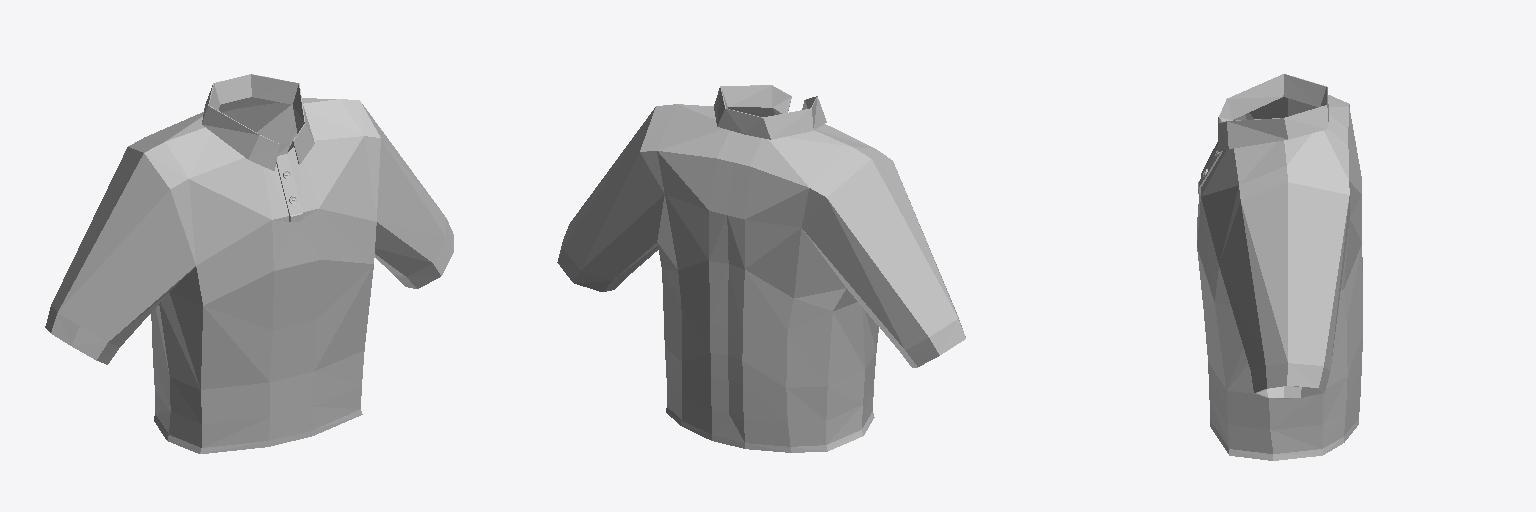
File: originT.obj
3 views of the same model, side by side, from view 1: azimuth 30°, elevation 25°; view 2: azimuth 150°, elevation 25°; view 3: azimuth 270°, elevation 25° (orthographic).
Visible parts, largest first — view 1: Mesh1 Group_14_1 Model; view 2: Mesh1 Group_14_1 Model; view 3: Mesh1 Group_14_1 Model.
Part boxes in pixels (x1,y1,x2,y2): Mesh1 Group_14_1 Model: (45,74,453,453); Mesh1 Group_14_1 Model: (557,85,965,452); Mesh1 Group_14_1 Model: (1197,74,1362,460).
Bounding box in the file's own units: 26.48 × 20.08 × 9.44.